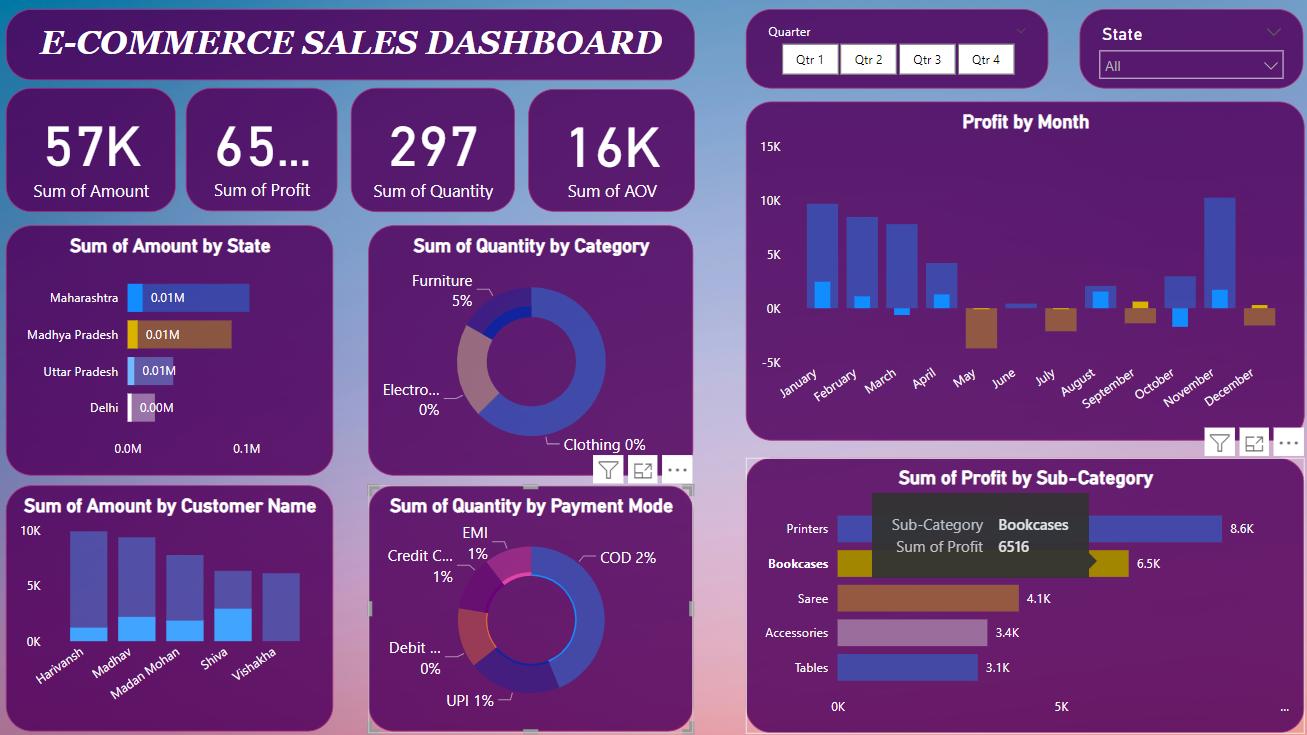

Layout of this report page (visuals, bound fields, positions):
{"tool":"powerbi","page":{"name":"Page 1","canvas":[1280,720],"ordinal":0},"visuals":[{"type":"textbox","box":[13.3,14.5,664.5,68.7],"z":0},{"type":"columnChart","title":"Profit by Month","fields":{"Category":["Orders.Order Date.Variation.Date Hierarchy.Month"],"Y":["Sum(Details.Profit)"]},"box":[727.2,103.7,539.1,326.8],"z":1000},{"type":"barChart","fields":{"Category":["Details.Sub-Category"],"Y":["Sum(Details.Profit)"]},"box":[726,445,539.1,266.5],"z":2000},{"type":"donutChart","fields":{"Category":["Details.Category"],"Y":["Sum(Details.Quantity)"]},"box":[363,223.1,313.6,241.2],"z":3000},{"type":"donutChart","title":"Sum of Quantity by Payment Mode","fields":{"Y":["Sum(Details.Quantity)"],"Category":["Details.PaymentMode"]},"box":[362.5,473.9,313.6,238.6],"z":4000},{"type":"card","fields":{"Values":["Sum(Details.Amount)"]},"box":[13,91,164,120],"z":5000},{"type":"card","fields":{"Values":["Sum(Details.Quantity)"]},"box":[346,90,158,120],"z":6000},{"type":"card","fields":{"Values":["Sum(Details.Profit)"]},"box":[187,91,146,119],"z":7000},{"type":"card","fields":{"Values":["Sum(Details.AOV)"]},"box":[517,92,161,118],"z":8000},{"type":"barChart","fields":{"Category":["Orders.State"],"Y":["Sum(Details.Amount)"]},"box":[13.3,223.1,316,241.2],"z":9000},{"type":"columnChart","title":"Sum of Amount by Customer Name","fields":{"Category":["Orders.CustomerName"],"Y":["Sum(Details.Amount)"]},"box":[13.6,473.9,315.9,238.6],"z":10000},{"type":"slicer","fields":{"Values":["Orders.Order Date.Variation.Date Hierarchy.Quarter"]},"box":[727.2,14.5,291.9,77.2],"z":11000},{"type":"slicer","fields":{"Values":["Orders.State"]},"box":[1049.2,14.5,215.9,77.2],"z":12000}]}

Visuals, with their boxes in screenshot pixels (x1, y1, x2, y2), scaled from the page's 1280x720 canvas onto the 1307x735 screenshot:
textbox: pyautogui.locateOnScreen(14, 15, 692, 85)
"Profit by Month" columnChart: pyautogui.locateOnScreen(743, 106, 1293, 439)
barChart - Details.Sub-Category x Sum(Details.Profit): pyautogui.locateOnScreen(741, 454, 1292, 726)
donutChart - Details.Category x Sum(Details.Quantity): pyautogui.locateOnScreen(371, 228, 691, 474)
"Sum of Quantity by Payment Mode" donutChart: pyautogui.locateOnScreen(370, 484, 690, 727)
card - Sum(Details.Amount): pyautogui.locateOnScreen(13, 93, 181, 215)
card - Sum(Details.Quantity): pyautogui.locateOnScreen(353, 92, 515, 214)
card - Sum(Details.Profit): pyautogui.locateOnScreen(191, 93, 340, 214)
card - Sum(Details.AOV): pyautogui.locateOnScreen(528, 94, 692, 214)
barChart - Orders.State x Sum(Details.Amount): pyautogui.locateOnScreen(14, 228, 336, 474)
"Sum of Amount by Customer Name" columnChart: pyautogui.locateOnScreen(14, 484, 336, 727)
slicer - Orders.Order Date.Variation.Date Hierarchy.Quarter: pyautogui.locateOnScreen(743, 15, 1041, 94)
slicer - Orders.State: pyautogui.locateOnScreen(1071, 15, 1292, 94)
